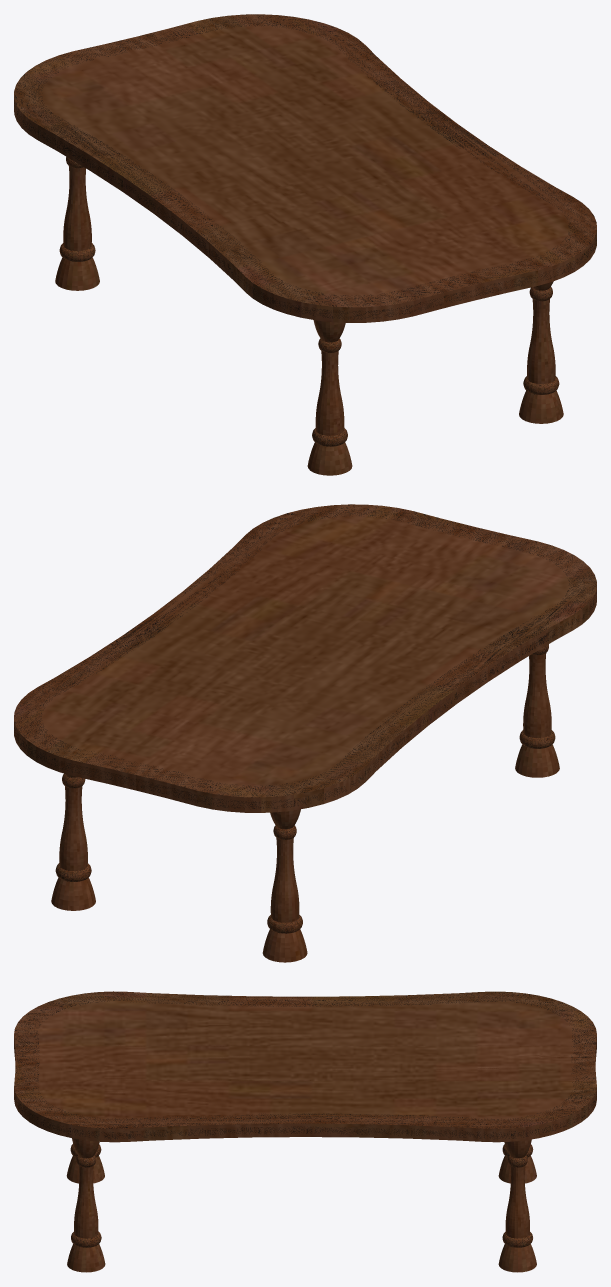
3 renders of one model, top to bottom at view 1: azimuth 30°, elevation 25°; view 2: azimuth 150°, elevation 25°; view 3: azimuth 270°, elevation 25°, orthographic. The views are drawn at different scales.
Parts seen in each view (by area): view 1: mesh1_mesh1-geometry; view 2: mesh1_mesh1-geometry; view 3: mesh1_mesh1-geometry.
Part boxes in pixels (x1,y1,x2,y2): mesh1_mesh1-geometry: [14, 14, 596, 475]; mesh1_mesh1-geometry: [14, 504, 596, 962]; mesh1_mesh1-geometry: [14, 991, 596, 1272].
Bounding box in the file's own units: 0.4712 × 0.2545 × 0.8445.
